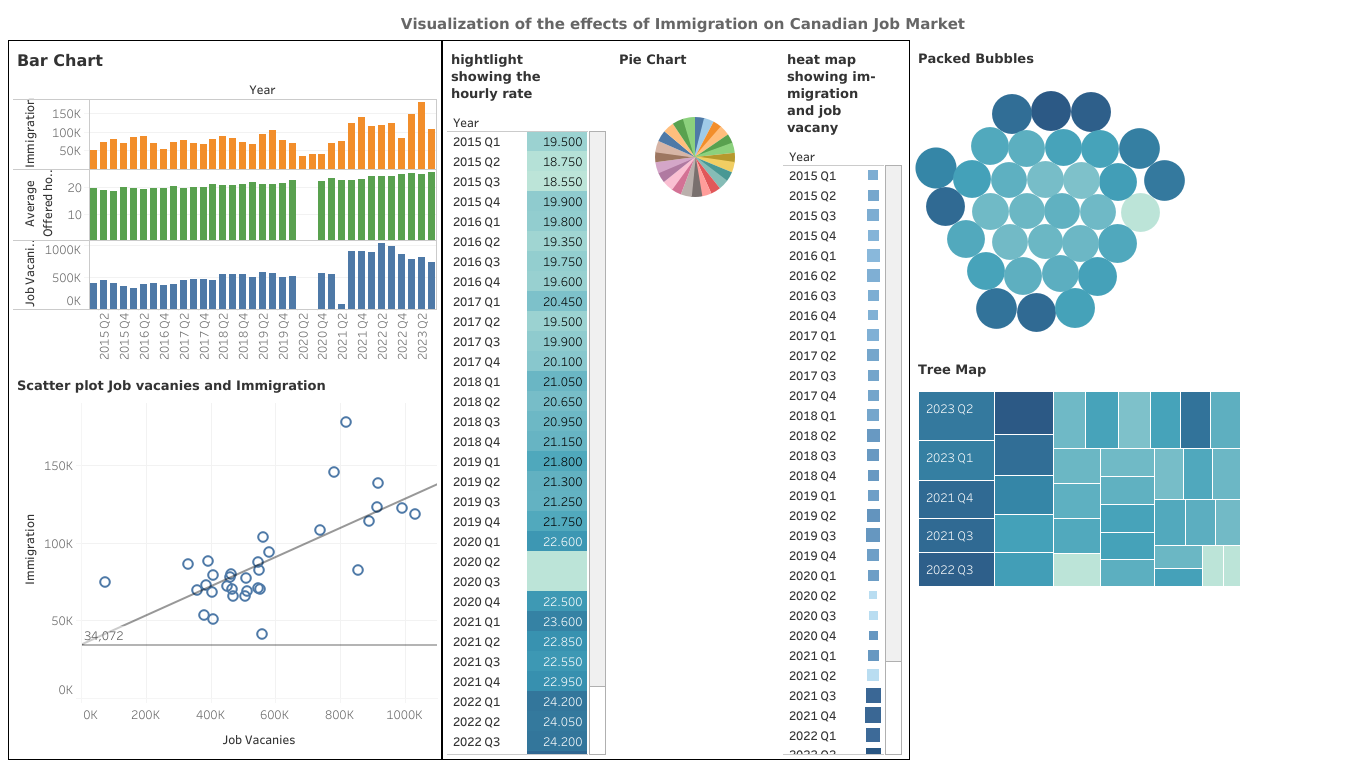

This screenshot's page, from the dashboard's own definition file:
{"tool":"tableau","page":{"name":"Dashboard","canvas":[1366,768],"ordinal":0},"visuals":[{"type":"text","box":[8,8,1350,32]},{"type":"worksheet","title":"Packed Bubbles","mark":"Circle","box":[910,40,338,311]},{"type":"blank","box":[1248,40,110,720]},{"type":"worksheet","title":"Bar Chart","mark":"Automatic","rows":["Immigration","Average Offered hourly wage","Job Vacanies"],"cols":["Year"],"box":[9,41,432,326]},{"type":"worksheet","title":"hightlight showing the hourly rate ","mark":"Square","rows":["Year"],"box":[443,41,167,718]},{"type":"worksheet","title":"pie chart","mark":"Pie","box":[610,41,168,718]},{"type":"worksheet","title":"heat map showing immigration and job vacany ","mark":"Automatic","rows":["Year"],"box":[778,41,127,718]},{"type":"worksheet","title":"Tree Map","mark":"Automatic","box":[910,351,338,409]},{"type":"worksheet","title":"Scatter plot Job vacanies and Immigration ","mark":"Automatic","rows":["Immigration"],"cols":["Job Vacanies"],"box":[9,367,432,392]}]}

Visuals, with their boxes in screenshot pixels (x1, y1, x2, y2), scaled from the page's 1366x768 canvas onto the 1365x767 screenshot:
text: (x1=8, y1=8, x2=1357, y2=40)
"Packed Bubbles" worksheet (Circle marks): (x1=909, y1=40, x2=1247, y2=351)
blank: (x1=1247, y1=40, x2=1357, y2=759)
"Bar Chart" worksheet: (x1=9, y1=41, x2=441, y2=367)
"hightlight showing the hourly rate " worksheet (Square marks): (x1=443, y1=41, x2=610, y2=758)
"pie chart" worksheet (Pie marks): (x1=610, y1=41, x2=777, y2=758)
"heat map showing immigration and job vacany " worksheet: (x1=777, y1=41, x2=904, y2=758)
"Tree Map" worksheet: (x1=909, y1=351, x2=1247, y2=759)
"Scatter plot Job vacanies and Immigration " worksheet: (x1=9, y1=367, x2=441, y2=758)
